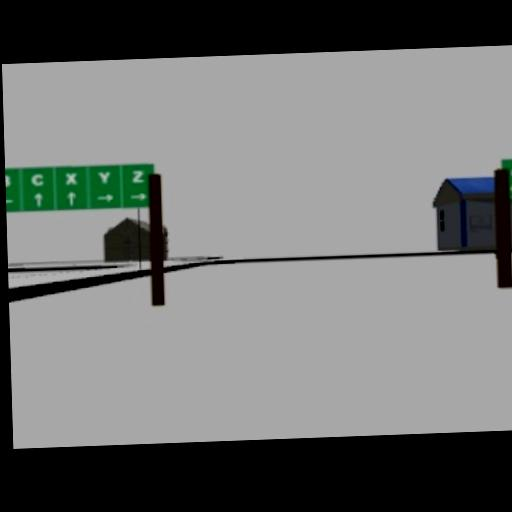A: (508, 162, 512, 176)
B: (6, 172, 11, 186)
C: (30, 172, 45, 186)
Left: (6, 195, 14, 205), (508, 182, 512, 192)
Right: (96, 191, 114, 204), (129, 191, 147, 201)
Straight: (34, 190, 44, 208), (66, 190, 76, 205)
X: (64, 170, 79, 185)
Y: (97, 170, 112, 185)
Z: (131, 168, 146, 184)
